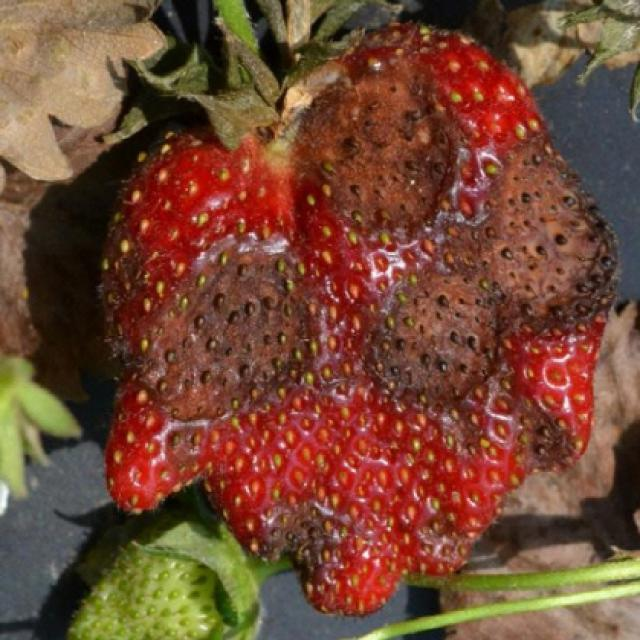Anthracnose Fruit Rot: (102, 23, 620, 617)
